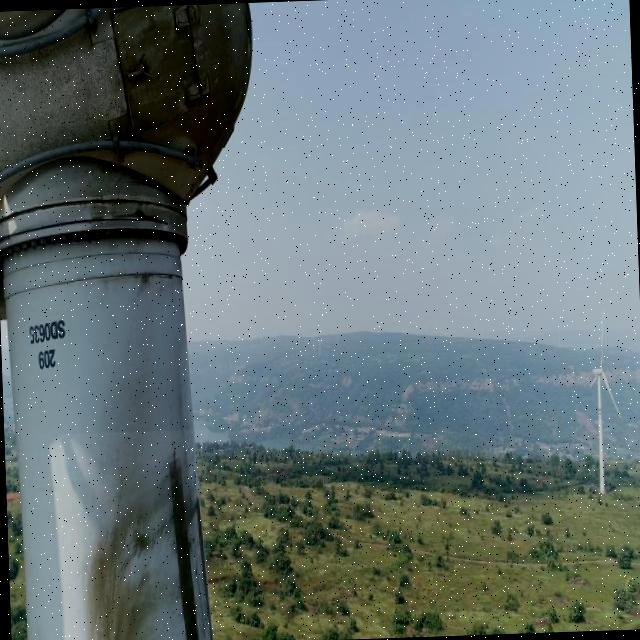Dirt: (87, 447, 216, 640)
